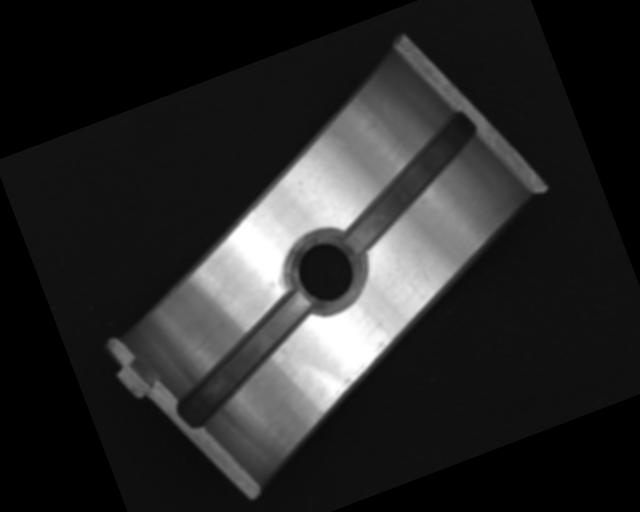gap: (318, 108, 503, 258), (155, 287, 336, 432)
hole: (278, 219, 374, 324)
